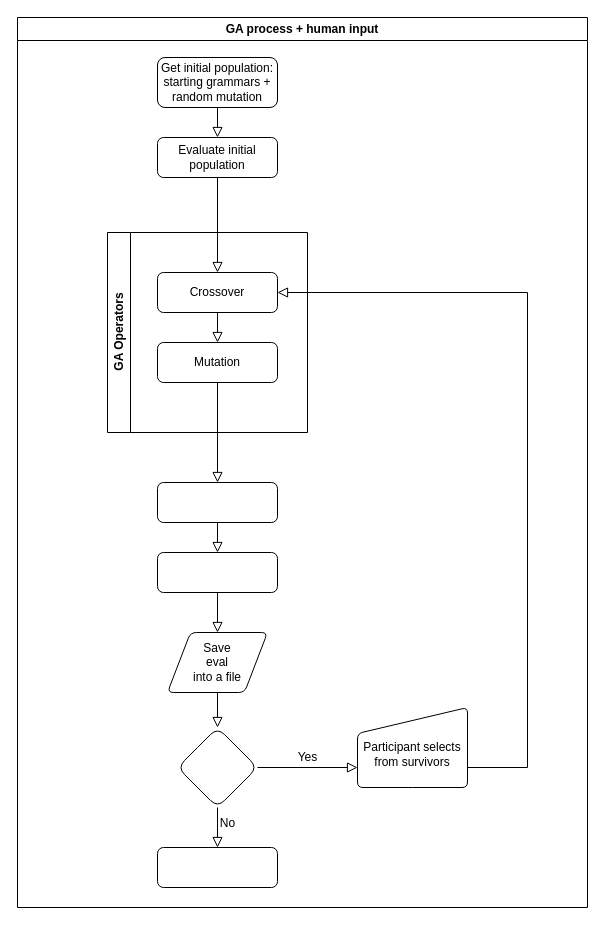
The diagram is 605 pixels wide and 925 high, and some of its shapes have lost their labels. Here are the shapes that lost their labels. From the top down, the centre of each, then its label:
At point (217, 502): "Fitness evaluation".
At point (217, 572): "Survivor selection".
At point (217, 767): "More evolution?".
At point (217, 867): "Terminate and show final choices".
